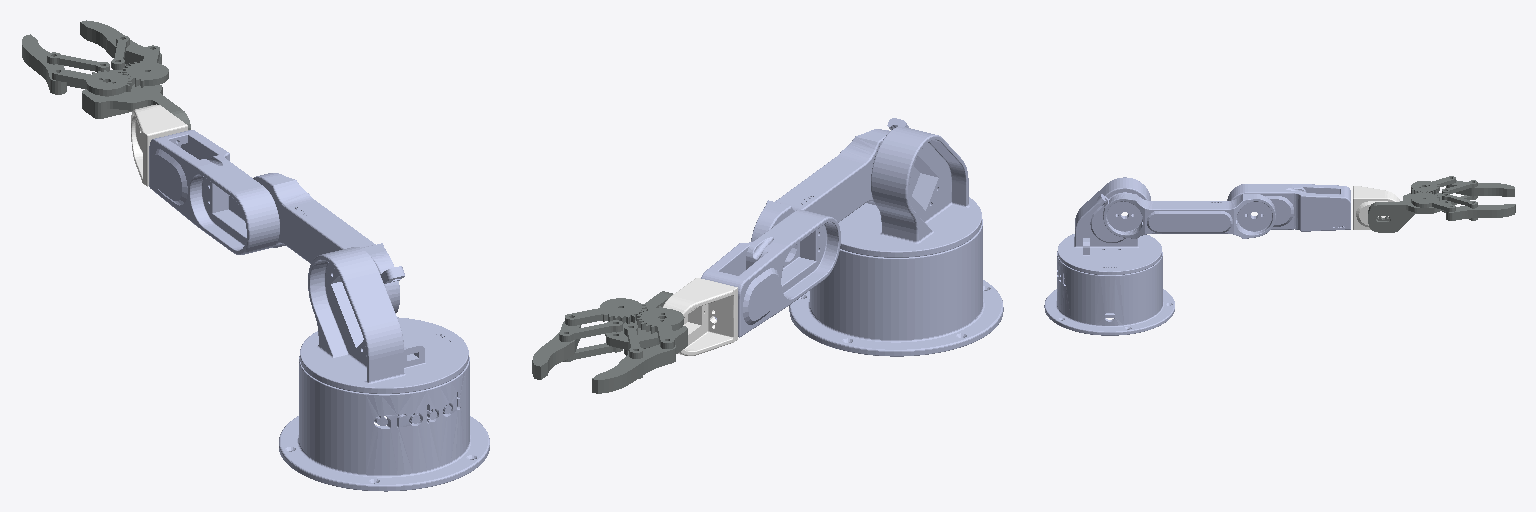
robot.urdf — Arobot_urdf:
<?xml version="1.0" encoding="utf-8"?>
<!-- This URDF was automatically created by SolidWorks to URDF Exporter! Originally created by [author] ([email redacted]) 
     Commit Version: 1.6.0-4-g7f85cfe  Build Version: 1.6.7995.38578
     For more information, please see http://wiki.ros.org/sw_urdf_exporter -->
<robot
  name="Arobot_urdf">
  <link
    name="base_link">
    <inertial>
      <origin
        xyz="-0.0199023809554258 -0.0173034470198268 -0.0157828643241678"
        rpy="0 0 0" />
      <mass
        value="0.0931216324961421" />
      <inertia
        ixx="0.000124567788543552"
        ixy="-4.16363683065978E-08"
        ixz="1.57671233689442E-06"
        iyy="0.000130557362004676"
        iyz="-5.17488311121036E-07"
        izz="0.000200546691587433" />
    </inertial>
    <visual>
      <origin
        xyz="0 0 0"
        rpy="0 0 0" />
      <geometry>
        <mesh
          filename="package://Arobot_urdf/meshes/base_link.STL" />
      </geometry>
      <material
        name="">
        <color
          rgba="0.792156862745098 0.819607843137255 0.933333333333333 1" />
      </material>
    </visual>
    <collision>
      <origin
        xyz="0 0 0"
        rpy="0 0 0" />
      <geometry>
        <mesh
          filename="package://Arobot_urdf/meshes/base_link.STL" />
      </geometry>
    </collision>
  </link>
  <link
    name="link2">
    <inertial>
      <origin
        xyz="-0.00759010509401916 0.0187700474297136 -0.00224361769178332"
        rpy="0 0 0" />
      <mass
        value="0.0722904552128266" />
      <inertia
        ixx="6.24391334188447E-05"
        ixy="6.73311035218301E-06"
        ixz="-1.54882255374558E-06"
        iyy="5.68904737632755E-05"
        iyz="6.39871996504846E-06"
        izz="4.95155659981253E-05" />
    </inertial>
    <visual>
      <origin
        xyz="0 0 0"
        rpy="0 0 0" />
      <geometry>
        <mesh
          filename="package://Arobot_urdf/meshes/link2.STL" />
      </geometry>
      <material
        name="">
        <color
          rgba="0.792156862745098 0.819607843137255 0.933333333333333 1" />
      </material>
    </visual>
    <collision>
      <origin
        xyz="0 0 0"
        rpy="0 0 0" />
      <geometry>
        <mesh
          filename="package://Arobot_urdf/meshes/link2.STL" />
      </geometry>
    </collision>
  </link>
  <joint
    name="q1"
    type="continuous">
    <origin
      xyz="-0.019548 -0.017657 0.017836"
      rpy="1.5708 0 0" />
    <parent
      link="base_link" />
    <child
      link="link2" />
    <axis
      xyz="0 1 0" />
  </joint>
  <link
    name="link3">
    <inertial>
      <origin
        xyz="-0.000125481736924962 0.0592846627417191 0.00553500191463586"
        rpy="0 0 0" />
      <mass
        value="0.0565100282891084" />
      <inertia
        ixx="9.41765026874136E-05"
        ixy="-8.20721870459865E-09"
        ixz="1.28018314590746E-09"
        iyy="7.27757393240956E-06"
        iyz="-4.69467678466537E-10"
        izz="9.69997633192886E-05" />
    </inertial>
    <visual>
      <origin
        xyz="0 0 0"
        rpy="0 0 0" />
      <geometry>
        <mesh
          filename="package://Arobot_urdf/meshes/link3.STL" />
      </geometry>
      <material
        name="">
        <color
          rgba="0.792156862745098 0.819607843137255 0.933333333333333 1" />
      </material>
    </visual>
    <collision>
      <origin
        xyz="0 0 0"
        rpy="0 0 0" />
      <geometry>
        <mesh
          filename="package://Arobot_urdf/meshes/link3.STL" />
      </geometry>
    </collision>
  </link>
  <joint
    name="q2"
    type="continuous">
    <origin
      xyz="0 0.040395 -0.013891"
      rpy="1.5708 3.1416 1.5708" />
    <parent
      link="link2" />
    <child
      link="link3" />
    <axis
      xyz="0 0 1" />
  </joint>
  <link
    name="link4">
    <inertial>
      <origin
        xyz="-3.6277018358899E-05 0.0380964871549582 0.0137277229044298"
        rpy="0 0 0" />
      <mass
        value="0.0569391358158971" />
      <inertia
        ixx="6.36145624374083E-05"
        ixy="1.05125829931984E-07"
        ixz="2.80380500493347E-09"
        iyy="1.10341366256809E-05"
        iyz="-9.26039997868699E-07"
        izz="6.71124501437227E-05" />
    </inertial>
    <visual>
      <origin
        xyz="0 0 0"
        rpy="0 0 0" />
      <geometry>
        <mesh
          filename="package://Arobot_urdf/meshes/link4.STL" />
      </geometry>
      <material
        name="">
        <color
          rgba="0.792156862745098 0.819607843137255 0.933333333333333 1" />
      </material>
    </visual>
    <collision>
      <origin
        xyz="0 0 0"
        rpy="0 0 0" />
      <geometry>
        <mesh
          filename="package://Arobot_urdf/meshes/link4.STL" />
      </geometry>
    </collision>
  </link>
  <joint
    name="q3"
    type="continuous">
    <origin
      xyz="0 0.12 0"
      rpy="3.1416 0 3.1416" />
    <parent
      link="link3" />
    <child
      link="link4" />
    <axis
      xyz="0 0 1" />
  </joint>
  <link
    name="link5">
    <inertial>
      <origin
        xyz="0.00505977747575377 0.0460989187782145 -0.00578515845698138"
        rpy="0 0 0" />
      <mass
        value="0.0181544008867874" />
      <inertia
        ixx="4.26004943647823E-06"
        ixy="1.45652003326134E-08"
        ixz="-3.10514612533292E-09"
        iyy="2.89016878074379E-06"
        iyz="6.02916017576858E-07"
        izz="5.35076227036813E-06" />
    </inertial>
    <visual>
      <origin
        xyz="0 0 0"
        rpy="0 0 0" />
      <geometry>
        <mesh
          filename="package://Arobot_urdf/meshes/link5.STL" />
      </geometry>
      <material
        name="">
        <color
          rgba="1 1 1 1" />
      </material>
    </visual>
    <collision>
      <origin
        xyz="0 0 0"
        rpy="0 0 0" />
      <geometry>
        <mesh
          filename="package://Arobot_urdf/meshes/link5.STL" />
      </geometry>
    </collision>
  </link>
  <joint
    name="q4"
    type="continuous">
    <origin
      xyz="-0.0051 0.063767 0.013449"
      rpy="0 0 0" />
    <parent
      link="link4" />
    <child
      link="link5" />
    <axis
      xyz="0 1 0" />
  </joint>
  <link
    name="endEffector">
    <inertial>
      <origin
        xyz="0.0108354269744141 0.00851935483238395 -0.0520705736467652"
        rpy="0 0 0" />
      <mass
        value="0.0349188614782314" />
      <inertia
        ixx="1.28546999424825E-05"
        ixy="-8.63249361863202E-07"
        ixz="1.1128235896358E-06"
        iyy="9.08221478082389E-06"
        iyz="3.86983955907995E-06"
        izz="5.61702189618018E-06" />
    </inertial>
    <visual>
      <origin
        xyz="0 0 0"
        rpy="0 0 0" />
      <geometry>
        <mesh
          filename="package://Arobot_urdf/meshes/endEffector.STL" />
      </geometry>
      <material
        name="">
        <color
          rgba="0.529411764705882 0.549019607843137 0.549019607843137 1" />
      </material>
    </visual>
    <collision>
      <origin
        xyz="0 0 0"
        rpy="0 0 0" />
      <geometry>
        <mesh
          filename="package://Arobot_urdf/meshes/endEffector.STL" />
      </geometry>
    </collision>
  </link>
  <joint
    name="q5"
    type="continuous">
    <origin
      xyz="0.005 0.055833 0"
      rpy="1.1624 0 0" />
    <parent
      link="link5" />
    <child
      link="endEffector" />
    <axis
      xyz="0 0.91776 0.39713" />
  </joint>
</robot>

--- What the picture shows (computed from the rendered views, not written in the file) ---
3 views of the same robot in one strip: view 1: azimuth 30°, elevation 25°; view 2: azimuth 150°, elevation 25°; view 3: azimuth 270°, elevation 25° (orthographic).
Robot: Arobot_urdf — 6 links, 5 joints (5 continuous); root link base_link; default pose: all joints at 0.
Links seen in each view (by area): view 1: base_link, link2, link4, endEffector, link3, link5; view 2: base_link, link2, link4, endEffector, link3, link5; view 3: base_link, link3, link2, endEffector, link4, link5.
Link boxes in pixels (left/top/right/bottom): base_link: left=279, top=356, right=489, bottom=491; link2: left=300, top=247, right=468, bottom=393; link4: left=149, top=130, right=279, bottom=254; endEffector: left=22, top=20, right=190, bottom=129; link3: left=253, top=173, right=404, bottom=312; link5: left=131, top=104, right=187, bottom=186; base_link: left=789, top=219, right=1003, bottom=356; link2: left=838, top=127, right=981, bottom=257; link4: left=701, top=210, right=840, bottom=337; endEffector: left=532, top=291, right=687, bottom=393; link3: left=751, top=118, right=908, bottom=241; link5: left=662, top=278, right=737, bottom=355; base_link: left=1044, top=251, right=1174, bottom=335; link3: left=1097, top=194, right=1275, bottom=238; link2: left=1058, top=177, right=1161, bottom=274; endEffector: left=1368, top=176, right=1515, bottom=232; link4: left=1227, top=184, right=1350, bottom=231; link5: left=1353, top=186, right=1399, bottom=229.
Size in the robot's own frame: 0.1213 by 0.4365 by 0.1207 metres.
6 mesh visuals loaded from 6 distinct referenced files (6 binary STL).